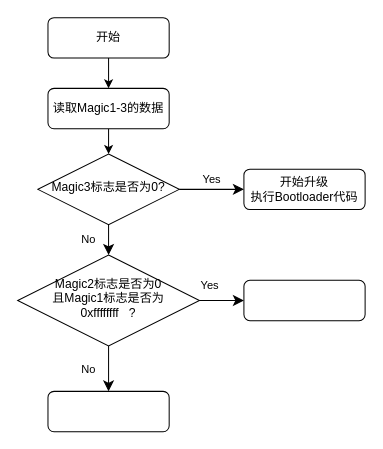
The diagram is 383 pixels wide and 449 high, and some of its shapes have lost their labels. Here are the shapes that lost their labels. From the top down, the centre of each, then its label:
point 304,300: 升级未完成 执行Bootloader代码
point 108,411: 跳转到APP
